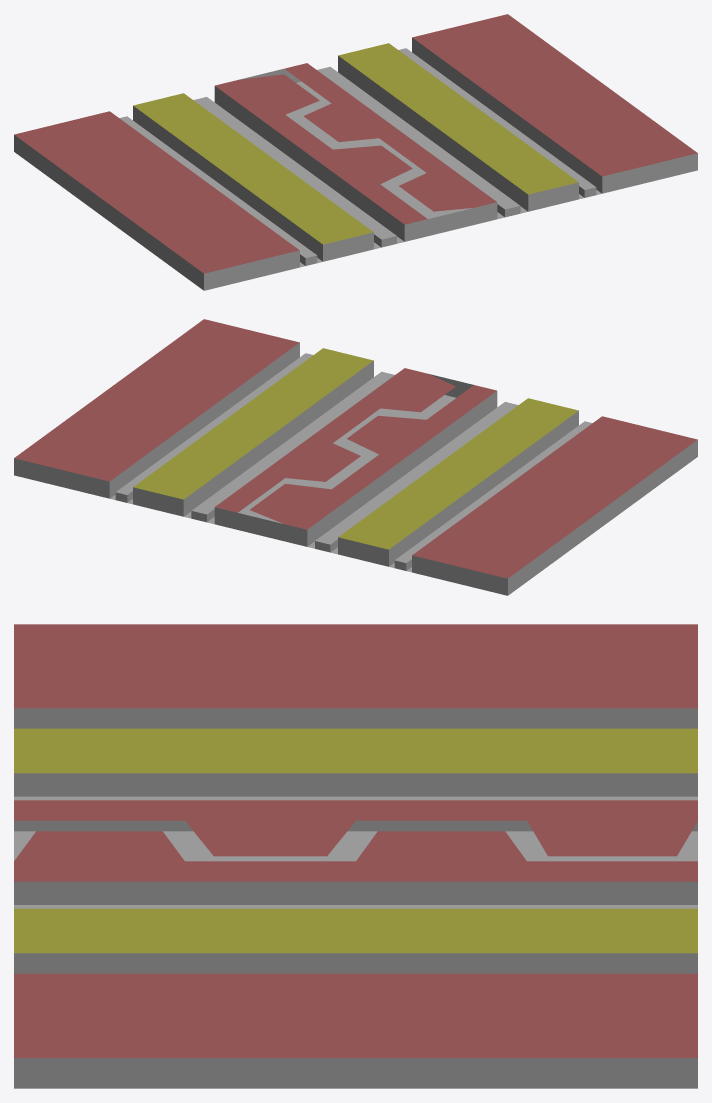
File: floor1.fbx
3 views of the same model, one above another, from view 1: azimuth 30°, elevation 25°; view 2: azimuth 150°, elevation 25°; view 3: azimuth 270°, elevation 25° (orthographic). The views are drawn at different scales.
Parts seen in each view (by area): view 1: floor; view 2: floor; view 3: floor.
Part boxes in pixels (x1=…): floor: x1=14, y1=14, x2=697, y2=290; floor: x1=14, y1=319, x2=697, y2=595; floor: x1=14, y1=624, x2=697, y2=1088.
Size of the model in its own units: 600 by 19.94 by 400.
